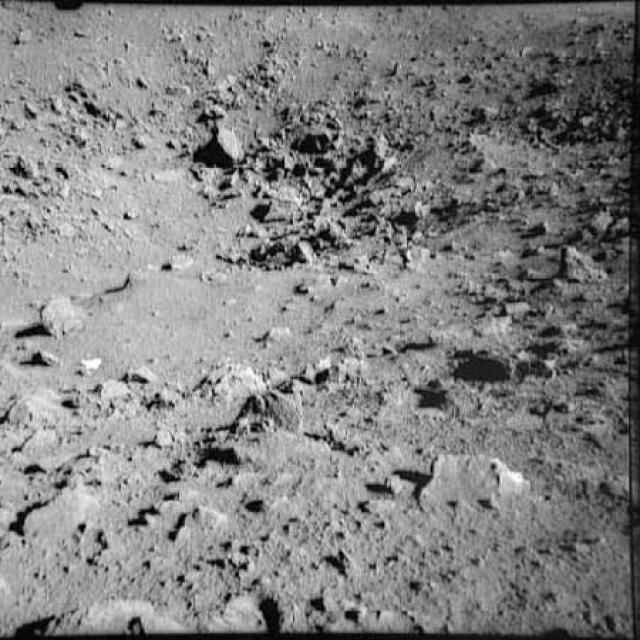rock: (419, 438, 531, 514), (37, 588, 198, 638), (16, 470, 102, 534), (232, 379, 307, 440), (551, 237, 616, 293), (449, 338, 516, 389), (38, 294, 95, 342), (196, 118, 251, 166), (254, 184, 302, 225), (117, 361, 161, 386)
